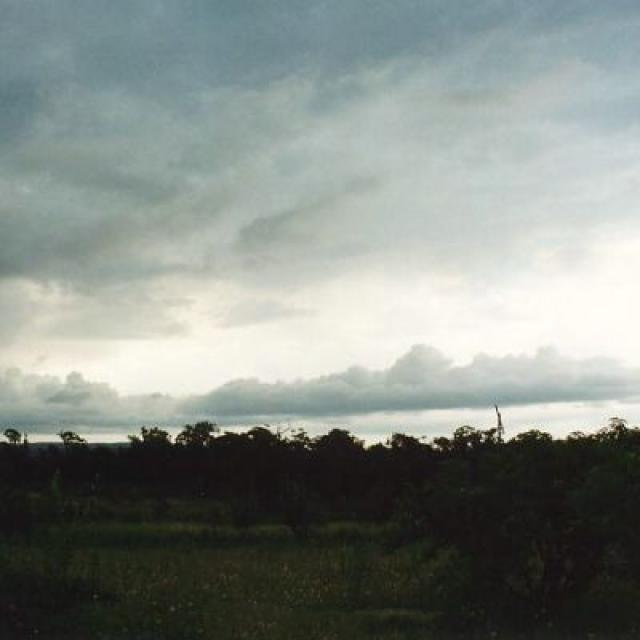Sc: (2, 29, 640, 408)
